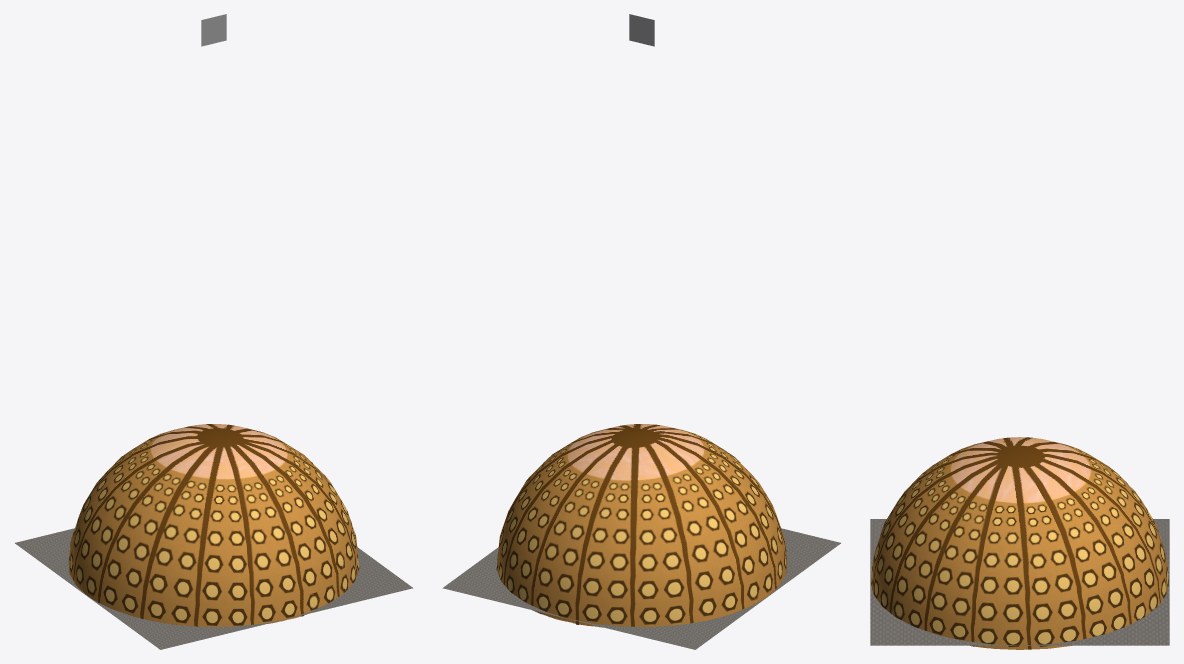
File: tardis_inside.obj
3 views of the same model, side by side, from view 1: azimuth 30°, elevation 25°; view 2: azimuth 150°, elevation 25°; view 3: azimuth 270°, elevation 25° (orthographic). The views are drawn at different scales.
Visible parts, largest first — view 1: Sphere, Plane_Plane.002, Cylinder; view 2: Sphere, Plane_Plane.002, Cylinder; view 3: Sphere, Plane_Plane.002.
Part boxes in pixels (x1,y1,x2,y2): Sphere: (68, 424, 359, 626); Plane_Plane.002: (15, 528, 413, 649); Cylinder: (201, 14, 226, 46); Sphere: (496, 424, 787, 627); Plane_Plane.002: (442, 528, 840, 649); Cylinder: (629, 14, 654, 46); Sphere: (870, 437, 1169, 649); Plane_Plane.002: (870, 519, 1169, 645).
Size of the model in its own units: 2 by 4.27 by 2.
